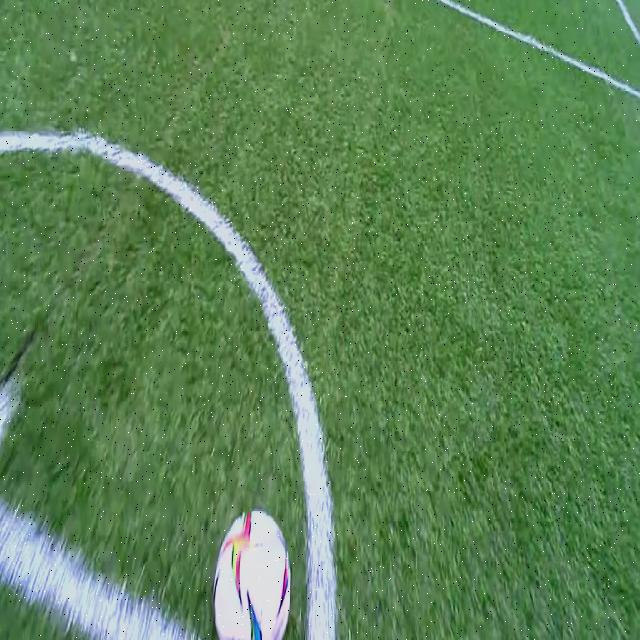ball: (214, 510, 290, 640)
